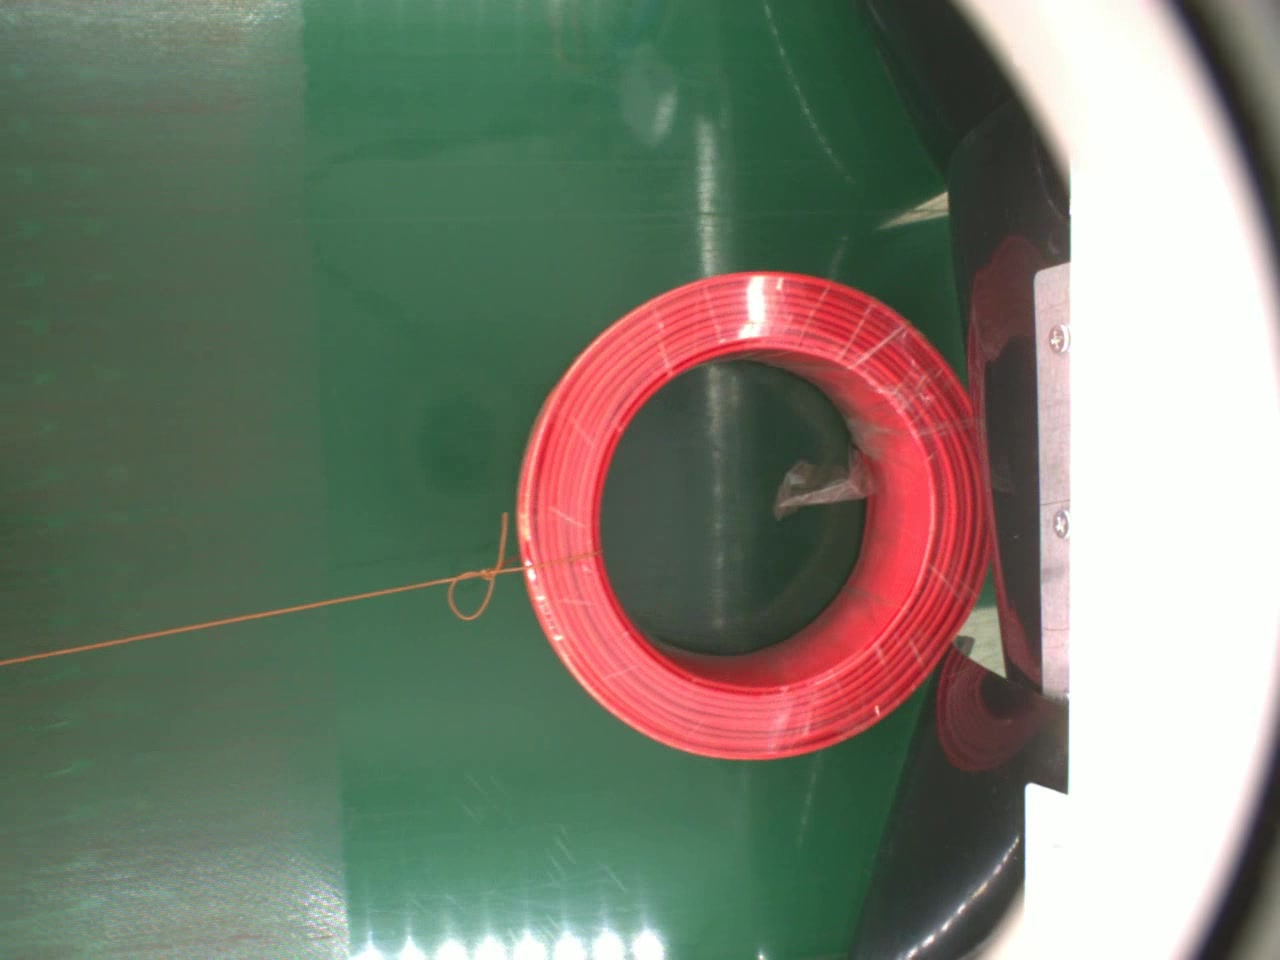red: (517, 266, 991, 764)
